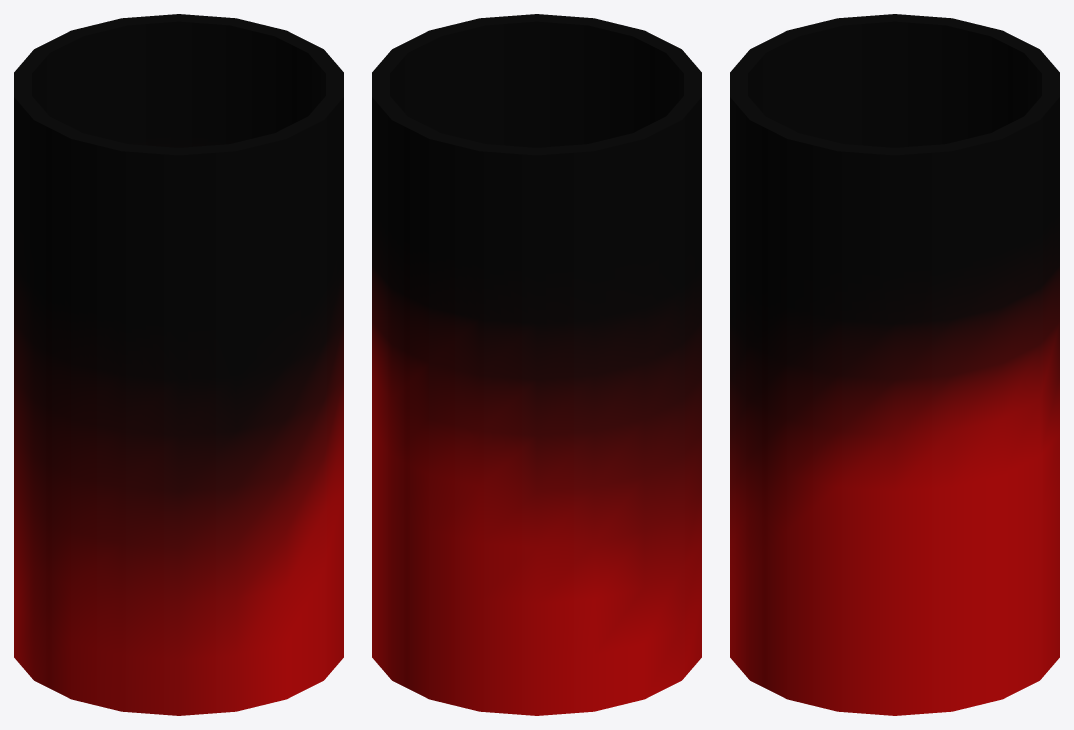
File: slinky.FBX
3 views of the same model, side by side, from view 1: azimuth 30°, elevation 25°; view 2: azimuth 150°, elevation 25°; view 3: azimuth 270°, elevation 25° (orthographic).
Visible parts, largest first — view 1: Cylinder001; view 2: Cylinder001; view 3: Cylinder001.
Part boxes in pixels (box(x1,y1,x2,y2)): Cylinder001: box(14, 14, 343, 715); Cylinder001: box(372, 14, 701, 715); Cylinder001: box(730, 14, 1059, 715).
Size of the model in its own units: 22.36 by 41.29 by 22.02.
